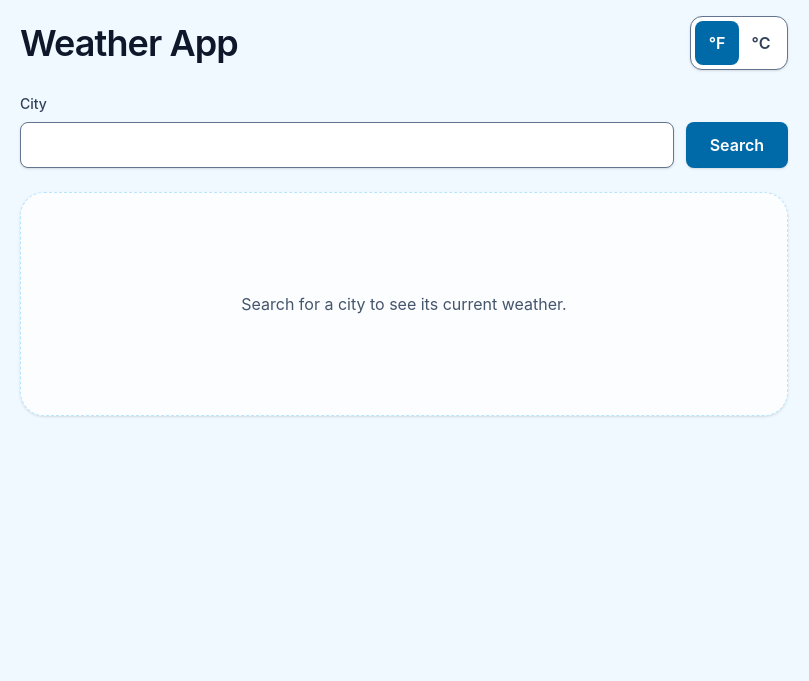
it: App › uses typed error handling when a unit-change refetch fails
In the field labelled "City": (347, 145) [20,122,674,168], type "Tampa"
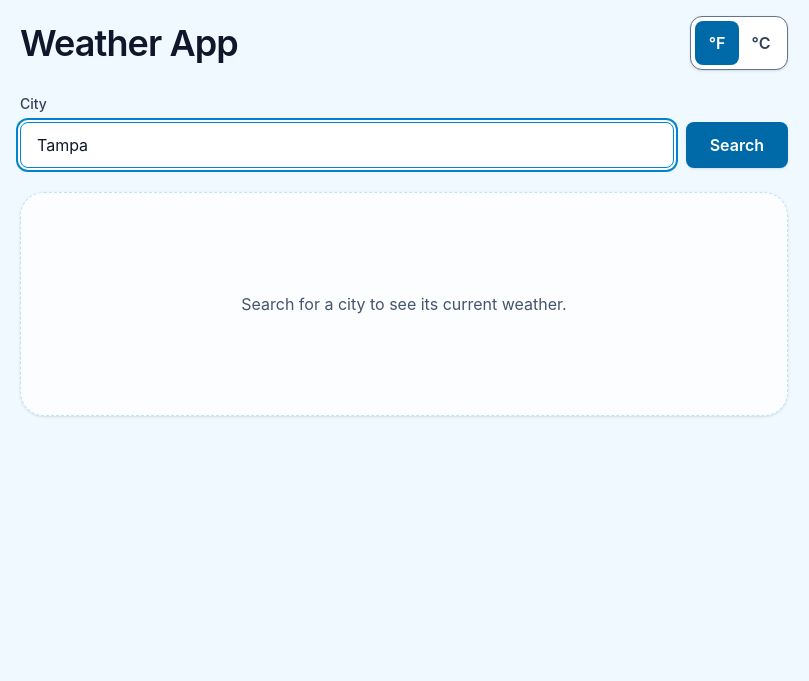
Click the button "Search": (737, 145) [686,122,788,168]
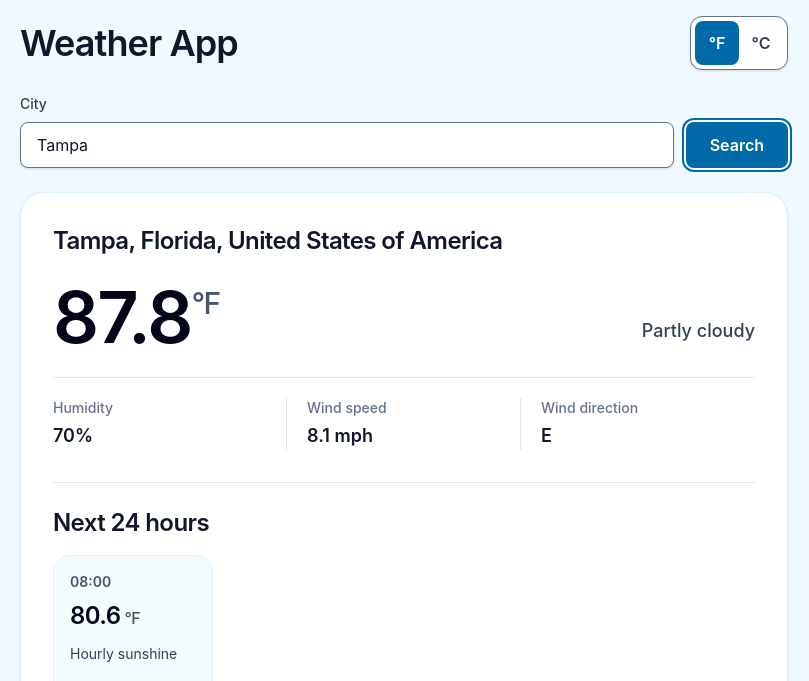
Expected: the heading named "Current weather for Tampa, Florida, United States of America" is shown, [52,225,502,255]
Click the radio button named "Celsius (metric units)": (761, 43) [752,33,770,53]
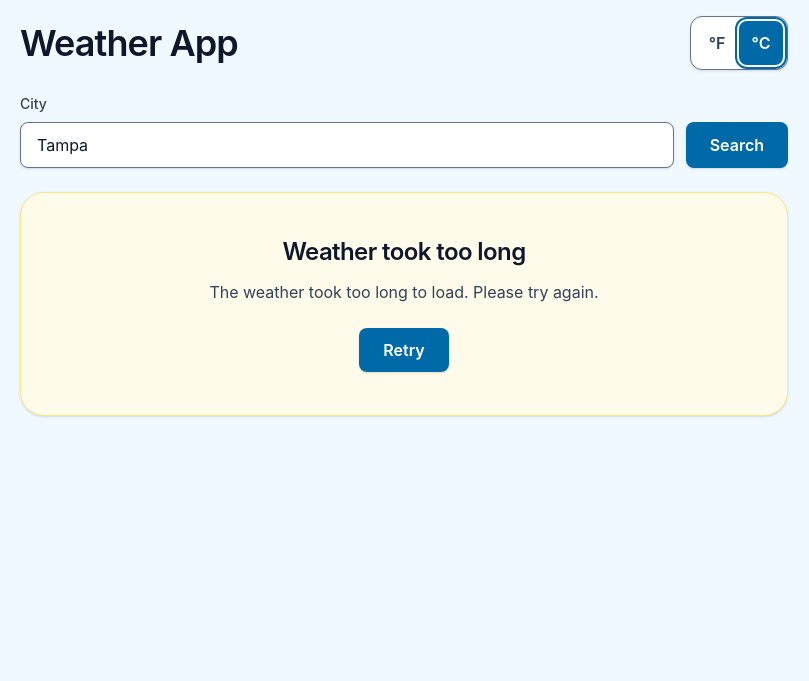
Expected: the heading "Weather took too long" is shown, [282,237,526,266]
Expected: the text "87.8" is gone
Expected: the button "Retry" is enabled, [359,328,449,372]
